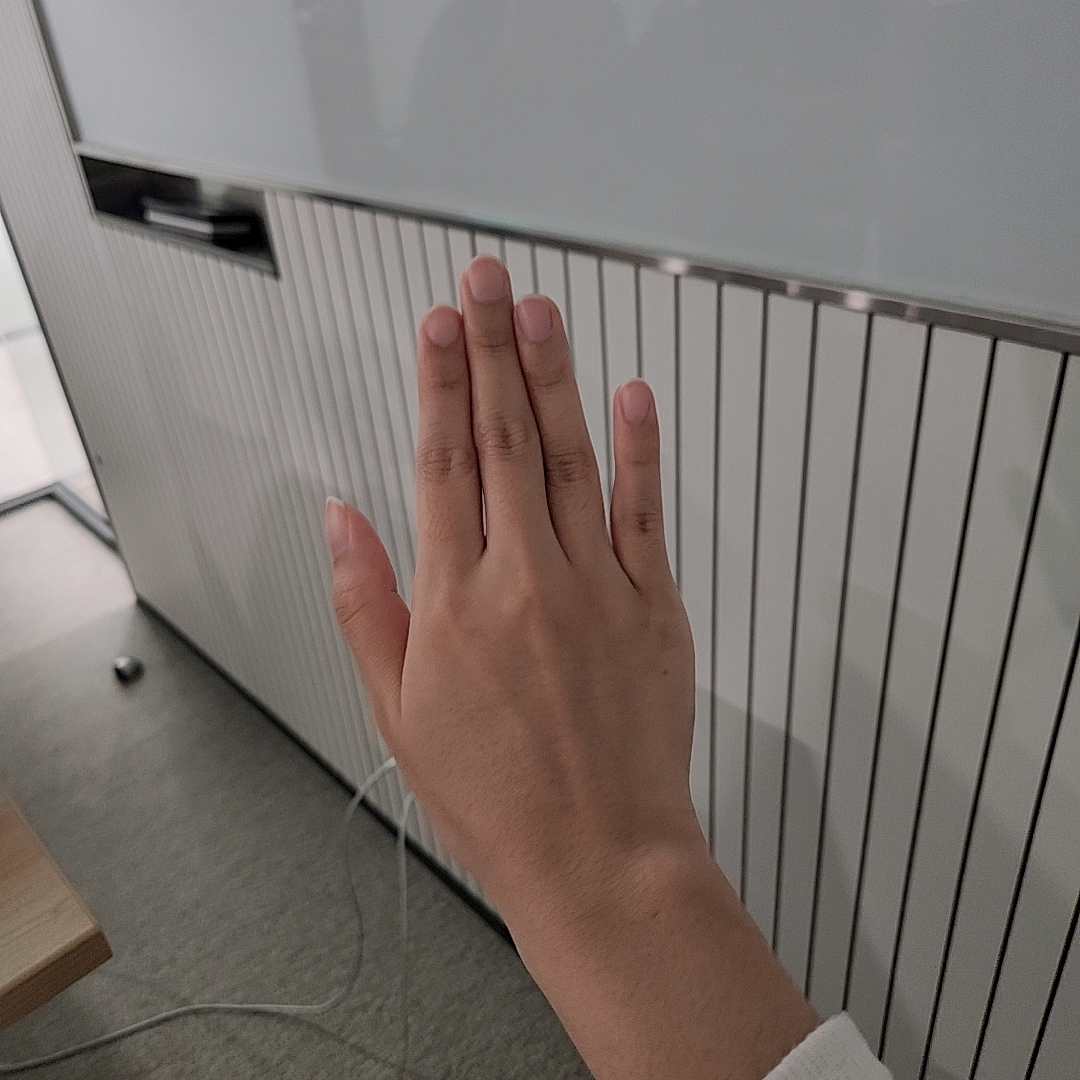me: (321, 253, 697, 864)
